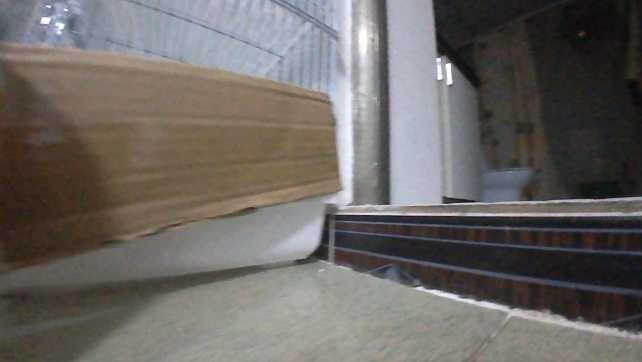door_sill: (325, 193, 641, 332)
toilet: (477, 145, 535, 202)
